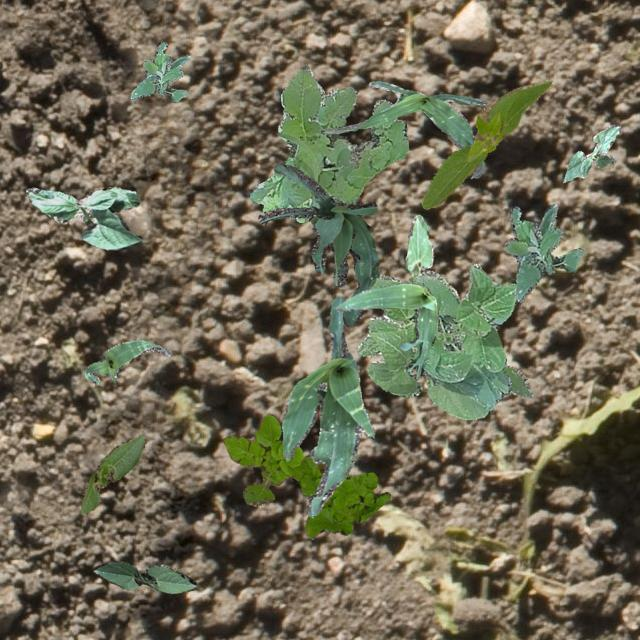crop: (356, 262, 514, 418), (281, 296, 374, 516), (258, 162, 378, 326), (421, 80, 551, 208), (324, 80, 486, 176), (334, 282, 438, 376), (24, 186, 140, 250), (80, 434, 146, 512), (82, 339, 170, 384), (562, 124, 620, 182), (92, 560, 196, 592), (403, 214, 432, 282)
weed: (248, 64, 408, 222), (222, 414, 390, 538), (504, 202, 584, 302), (130, 40, 188, 102), (500, 364, 532, 396)
